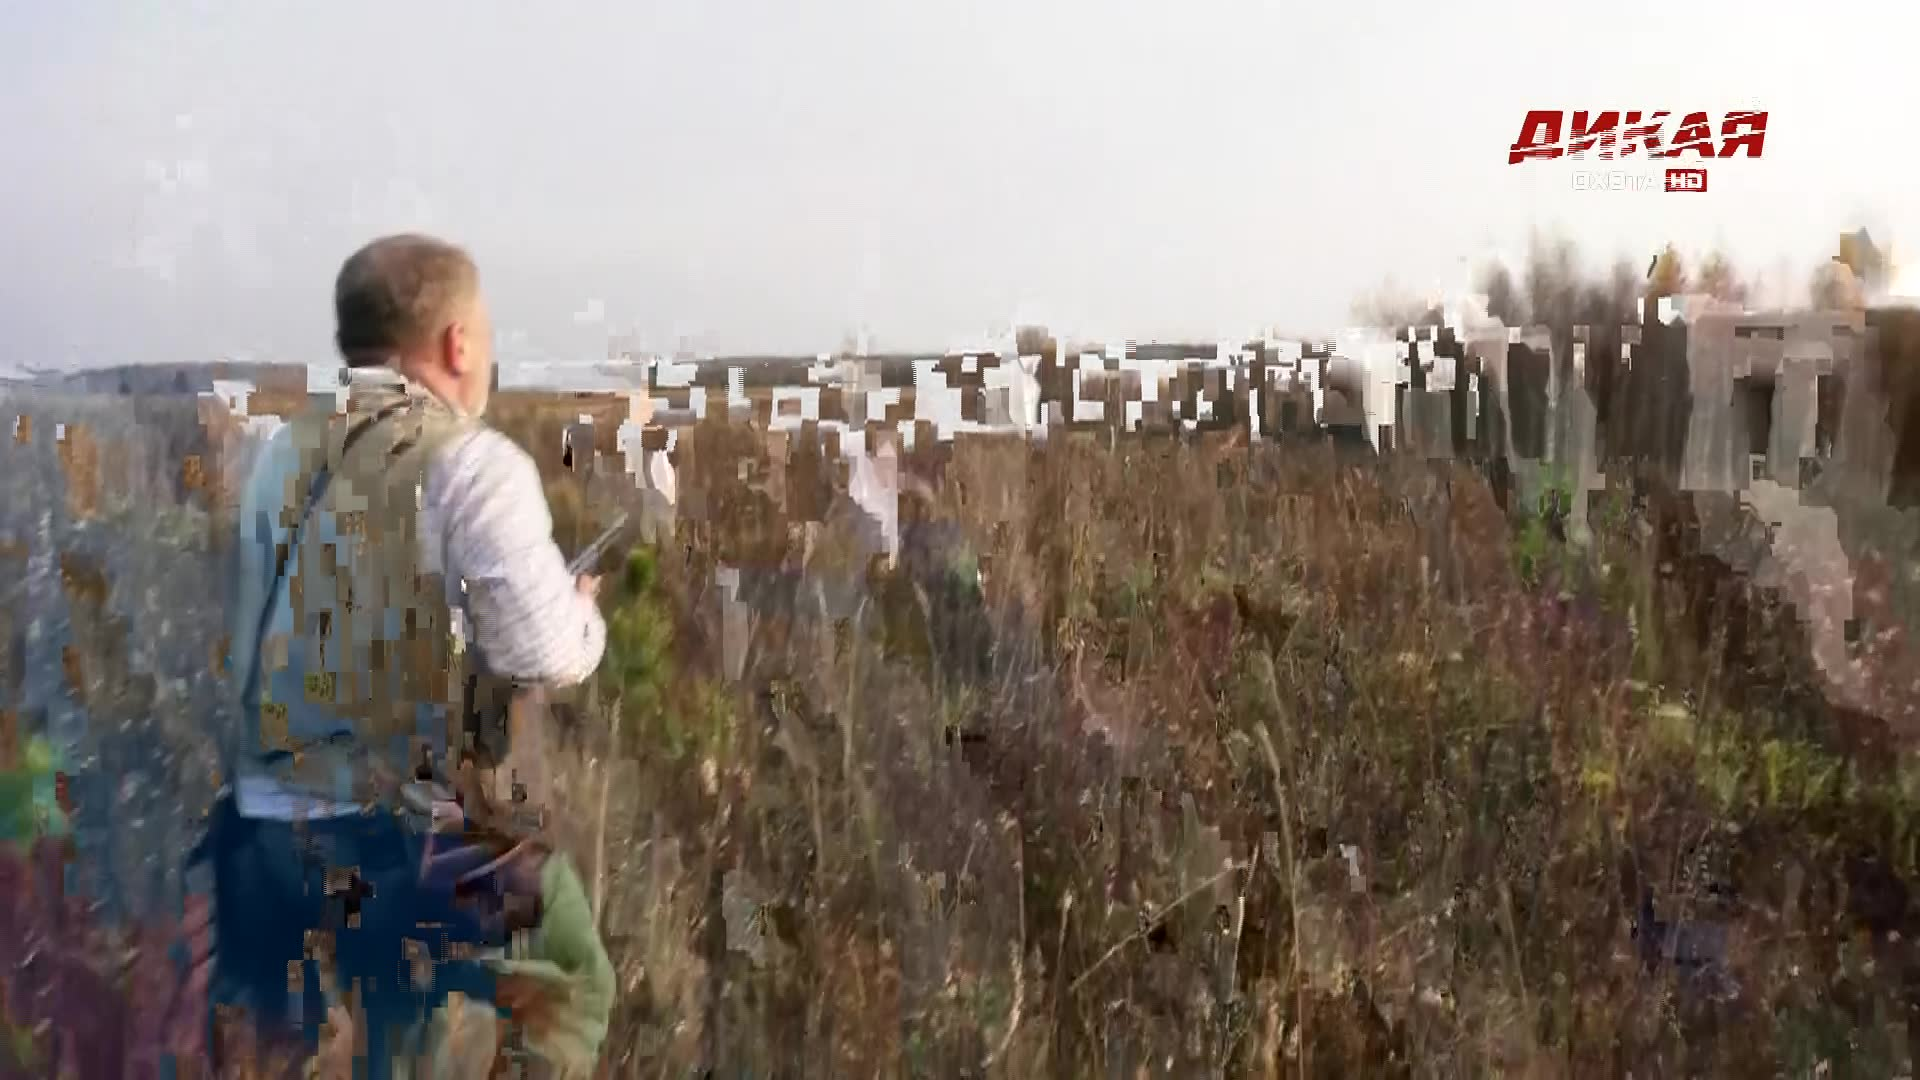Dikaya_Ohota_HD: (1505, 105, 1778, 196)
